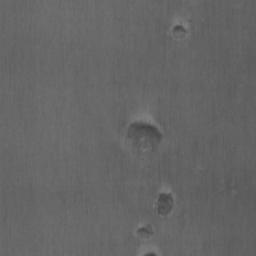Rolled pit: (127, 116, 163, 152), (169, 19, 190, 41), (156, 192, 174, 216), (136, 224, 154, 239), (144, 252, 157, 256)
